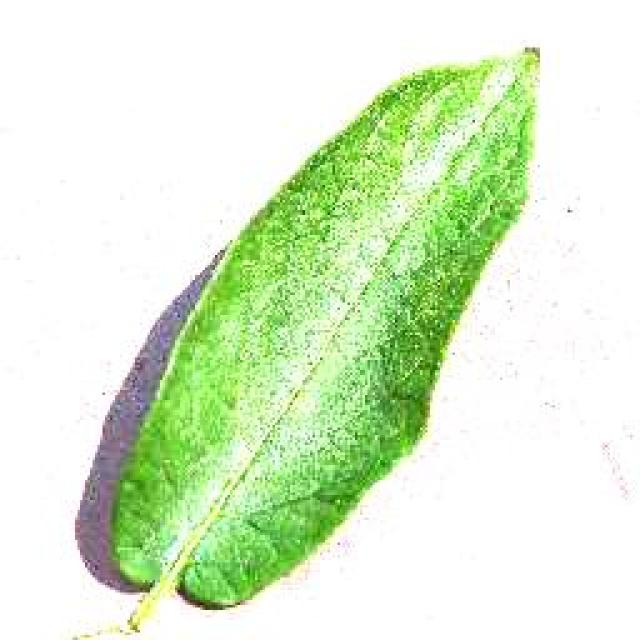Potato___healthy: (112, 45, 538, 632)
